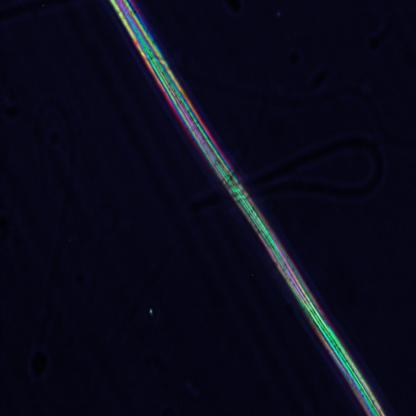Microfibre: (106, 0, 385, 414)
